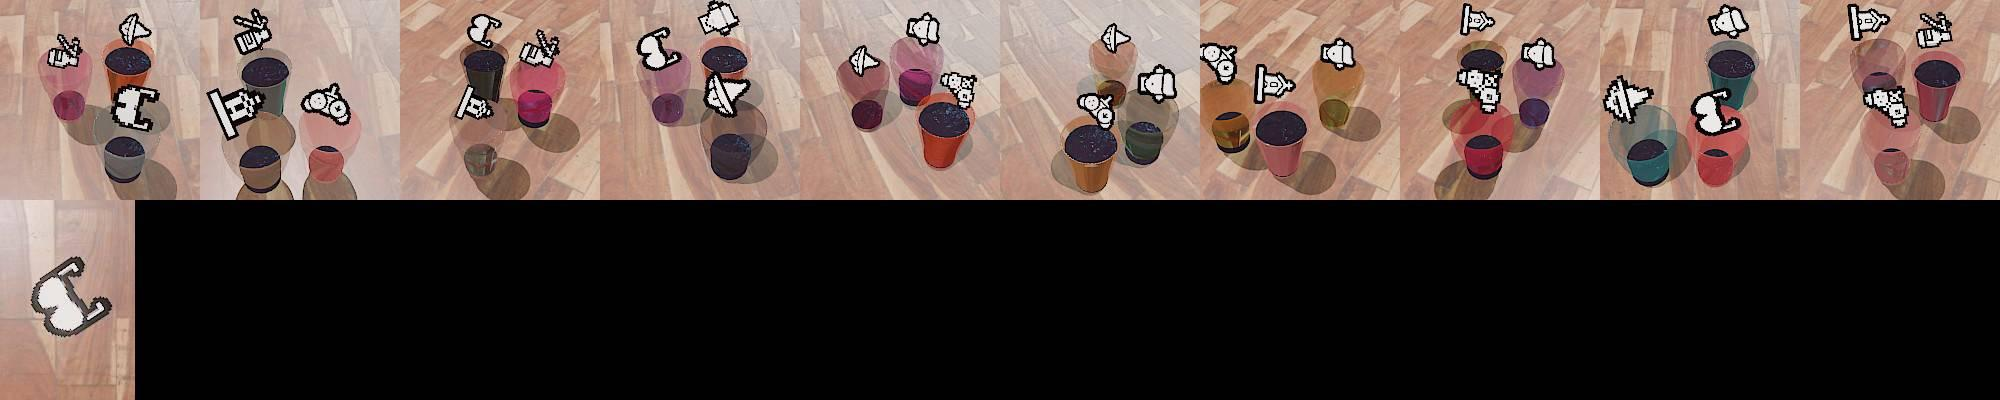icon: (25, 256, 114, 338), (207, 82, 267, 141), (1603, 74, 1655, 124), (1690, 88, 1742, 136), (110, 83, 160, 132), (299, 82, 351, 126), (1456, 63, 1503, 111), (635, 25, 682, 72), (703, 70, 750, 116), (1861, 84, 1908, 129), (232, 7, 272, 56), (1844, 3, 1892, 41), (1136, 62, 1179, 104), (1254, 62, 1295, 105), (518, 29, 562, 69), (1076, 90, 1120, 130), (939, 70, 979, 110), (1915, 10, 1954, 51), (453, 84, 495, 122), (1706, 3, 1749, 39), (1201, 42, 1237, 84), (699, 1, 740, 37), (46, 33, 82, 70), (467, 13, 504, 49), (905, 11, 941, 48), (1519, 36, 1557, 71), (1319, 36, 1355, 71), (118, 12, 152, 48), (1460, 3, 1495, 37), (849, 43, 880, 77), (1101, 21, 1132, 54)
